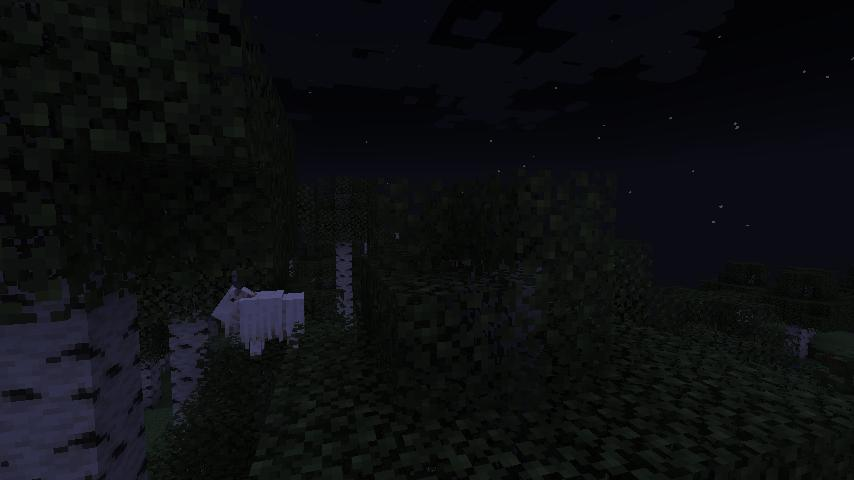goat: (212, 271, 304, 357)
